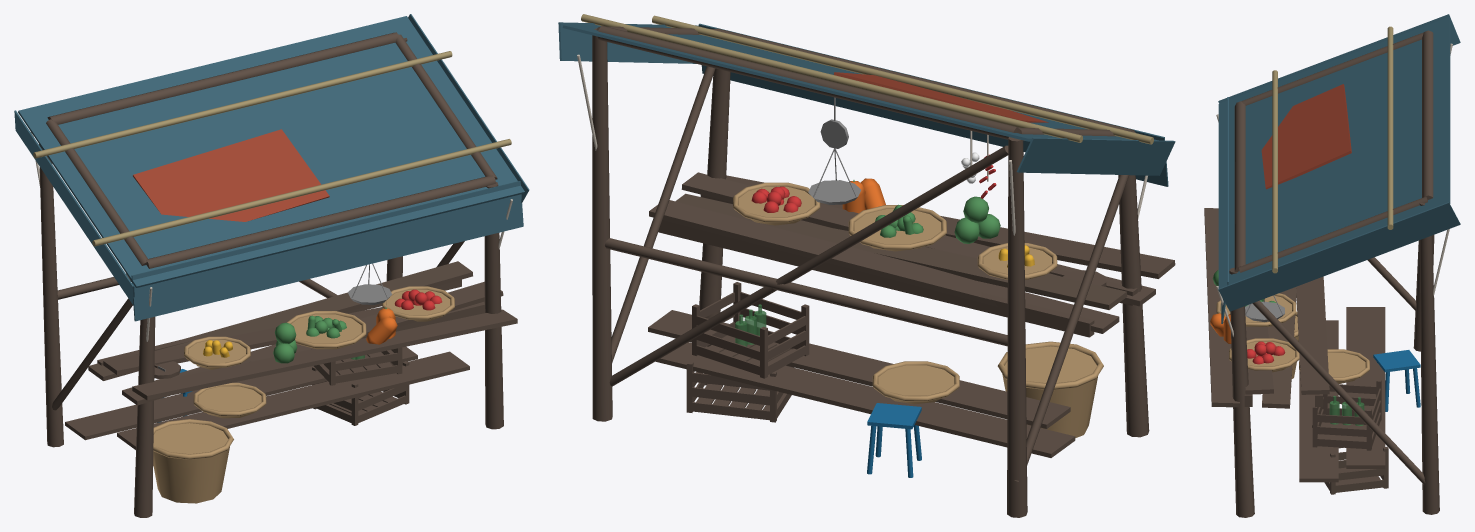
File: market-stall.glb
3 views of the same model, side by side, from view 1: azimuth 30°, elevation 25°; view 2: azimuth 150°, elevation 25°; view 3: azimuth 270°, elevation 25° (orthographic). The views are drawn at different scales.
Parts seen in each view (by area): view 1: Mesh_Tarp_Main, Mesh_Flap_Front, Mesh_Tarp_Patch, Mesh_Plank_4, Mesh_Shelf_Plank_1, Mesh_Floor_Basket, Mesh_Pole_BR, Mesh_Shelf_Plank_2, Mesh_Beam_Front, Mesh_Beam_Back, Mesh_Plank_1, Mesh_Pole_FL (+25 smaller); view 2: Mesh_Plank_1, Mesh_Shelf_Plank_2, Mesh_Pole_BL, Mesh_Pole_BR, Mesh_Plank_2, Mesh_Shelf_Plank_1, Mesh_Counter_Support_B, Mesh_Flap_Right, Mesh_Pole_FR, Mesh_Tarp_Main, Mesh_Brace_Back_Horiz, Mesh_Beam_Back (+26 smaller); view 3: Mesh_Tarp_Main, Mesh_Flap_Left, Mesh_Tarp_Patch, Mesh_Pole_BL, Mesh_Shelf_Plank_2, Mesh_Pole_FL, Mesh_Plank_4, Mesh_Plank_1, Mesh_Shelf_Plank_1, Mesh_Beam_Back, Mesh_Beam_Front, Mesh_Brace_Left_Diag (+22 smaller).
Boxes of the visible parts, box(x1,y1,x2,y2) form: Mesh_Tarp_Main: box(18, 16, 524, 287); Mesh_Flap_Front: box(131, 181, 523, 321); Mesh_Tarp_Patch: box(133, 129, 329, 221); Mesh_Plank_4: box(132, 309, 517, 400); Mesh_Shelf_Plank_1: box(117, 351, 469, 449); Mesh_Floor_Basket: box(153, 423, 229, 503); Mesh_Pole_BR: box(39, 144, 63, 447); Mesh_Shelf_Plank_2: box(65, 346, 417, 440); Mesh_Beam_Front: box(146, 175, 495, 268); Mesh_Beam_Back: box(47, 32, 398, 124); Mesh_Plank_1: box(88, 261, 472, 380); Mesh_Pole_FL: box(484, 182, 503, 429); Mesh_Plank_1: box(649, 200, 1119, 333); Mesh_Shelf_Plank_2: box(655, 342, 1075, 457); Mesh_Pole_BL: box(592, 28, 612, 421); Mesh_Pole_BR: box(1007, 137, 1027, 517); Mesh_Plank_2: box(675, 193, 1127, 309); Mesh_Shelf_Plank_1: box(648, 310, 1070, 428); Mesh_Counter_Support_B: box(658, 220, 1094, 337); Mesh_Flap_Right: box(1016, 137, 1175, 175); Mesh_Pole_FR: box(1118, 175, 1149, 437); Mesh_Tarp_Main: box(562, 25, 1156, 141); Mesh_Brace_Back_Horiz: box(605, 238, 1007, 346); Mesh_Beam_Back: box(597, 26, 1018, 139); Mesh_Tarp_Main: box(1218, 17, 1450, 288); Mesh_Flap_Left: box(1218, 202, 1460, 311); Mesh_Tarp_Patch: box(1261, 84, 1351, 189); Mesh_Pole_BL: box(1419, 203, 1439, 514); Mesh_Shelf_Plank_2: box(1346, 307, 1385, 468); Mesh_Pole_FL: box(1229, 267, 1254, 517); Mesh_Plank_4: box(1204, 208, 1239, 407); Mesh_Plank_1: box(1296, 276, 1329, 394); Mesh_Shelf_Plank_1: box(1299, 320, 1338, 482); Mesh_Beam_Back: box(1422, 30, 1433, 199); Mesh_Beam_Front: box(1234, 101, 1245, 271); Mesh_Brace_Left_Diag: box(1252, 300, 1425, 484).
Size of the model in its own units: 3 by 2.28 by 1.64.
